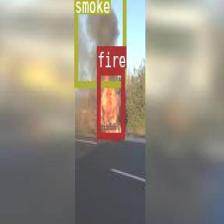fire: (96, 68, 124, 137)
smoke: (74, 0, 125, 87)
